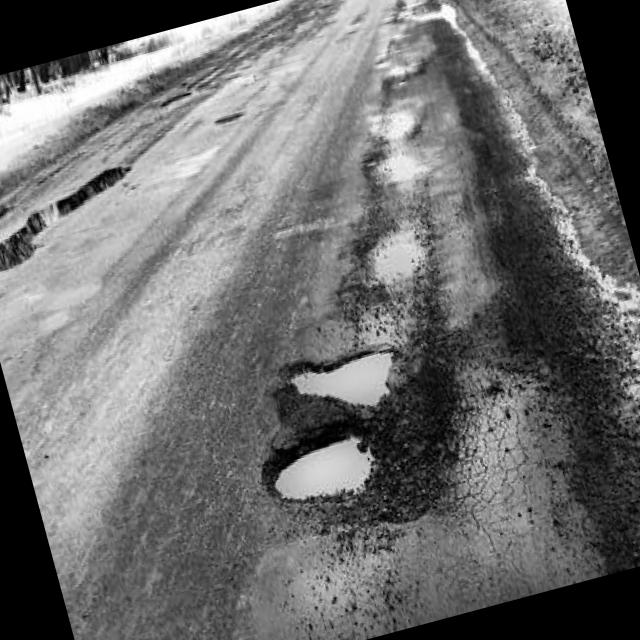Potholes: (0, 151, 171, 297), (261, 313, 422, 440), (242, 408, 394, 534), (336, 198, 453, 304), (354, 122, 448, 202), (150, 76, 214, 120), (206, 99, 259, 144), (0, 182, 33, 243)
